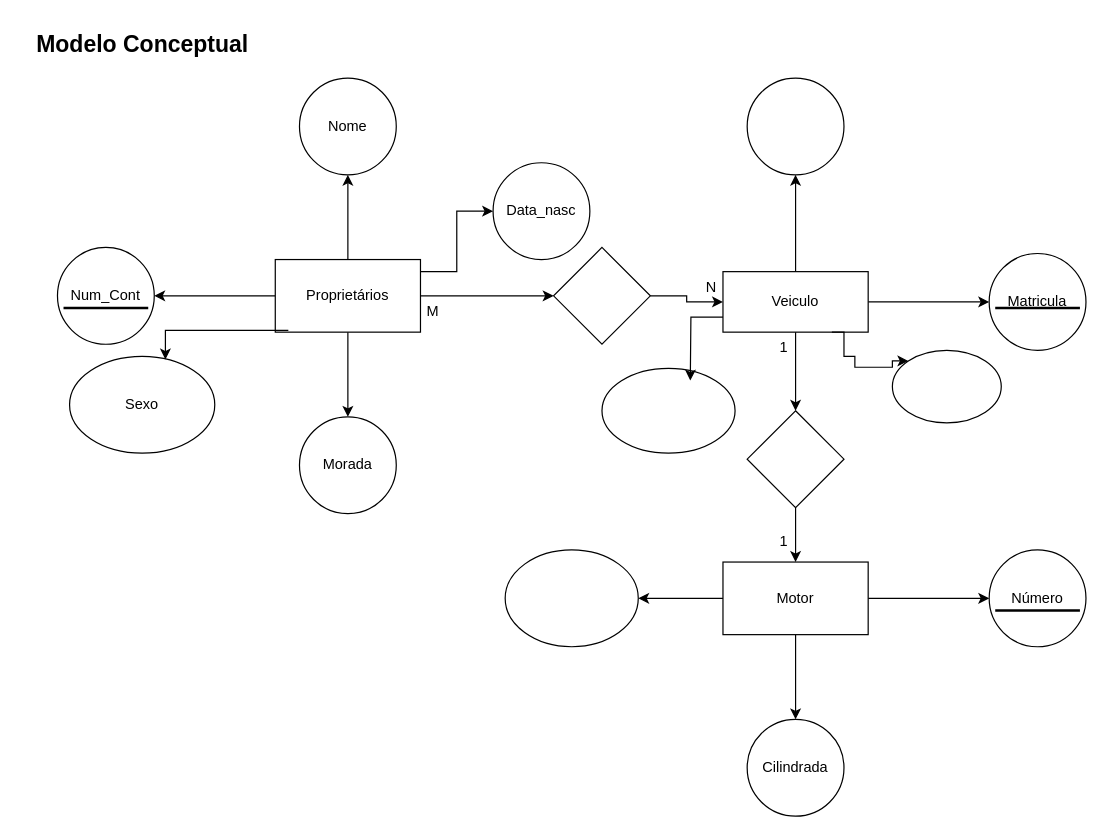
Image size: 1107x837. Some labels were removed from this diagram. Each missing label, with the box of its shape:
Cor: (891, 349, 1001, 423)
Marca: (746, 77, 844, 175)
Modelo: (601, 367, 735, 453)
Possui: (552, 246, 650, 344)
Tem: (746, 410, 844, 508)
Tipo_combustivel: (504, 549, 638, 647)
